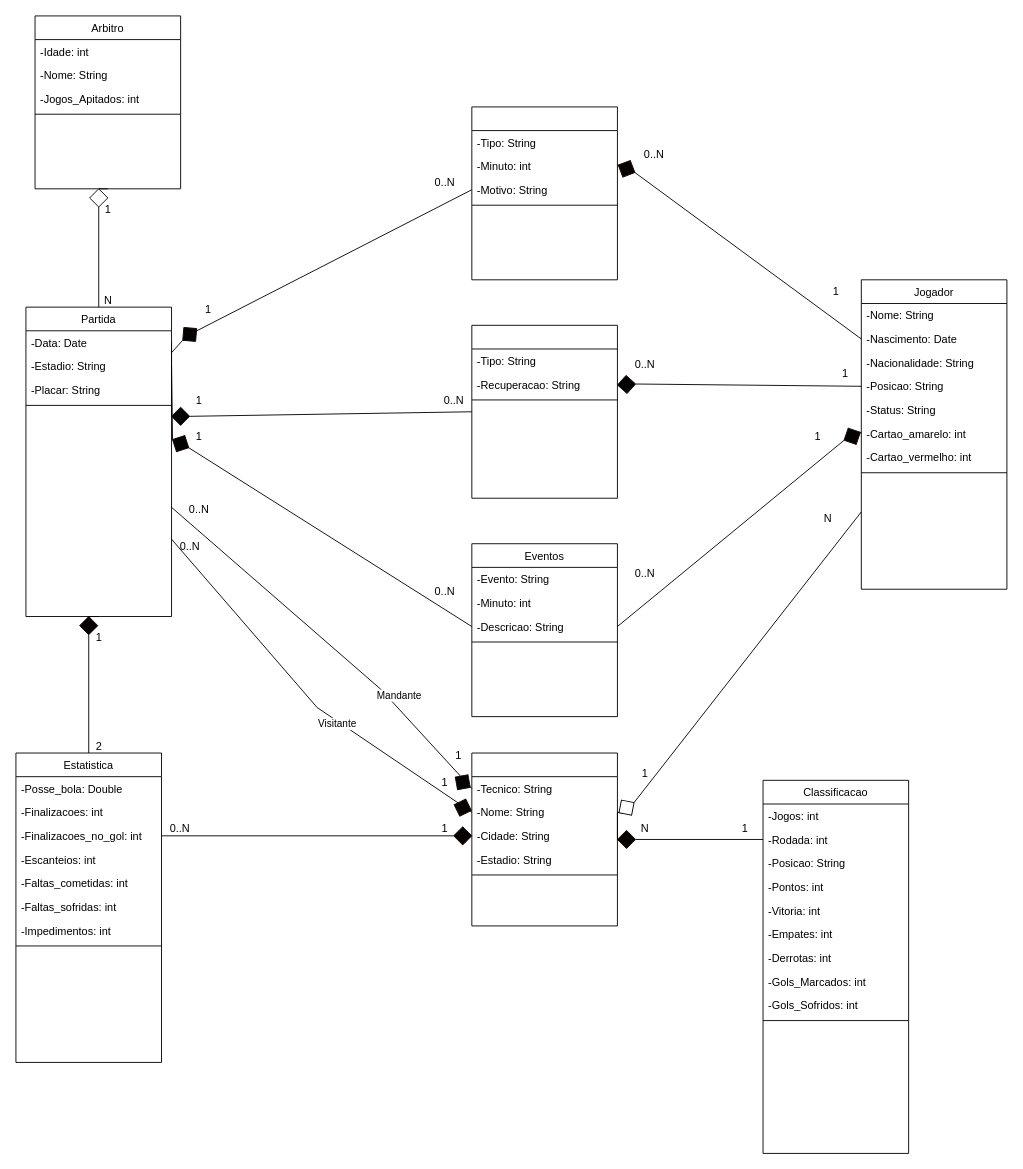
The diagram is 1023 pixels wide and 1169 high, and some of its shapes have lost their labels. The shapes that lost their labels are listed below. From the top down, each one's box as (x1, y1, x2, y2) in pixels, then its label:
(471, 106, 617, 280): Cartoes
(471, 324, 617, 498): Lesoes
(471, 752, 617, 926): Time
